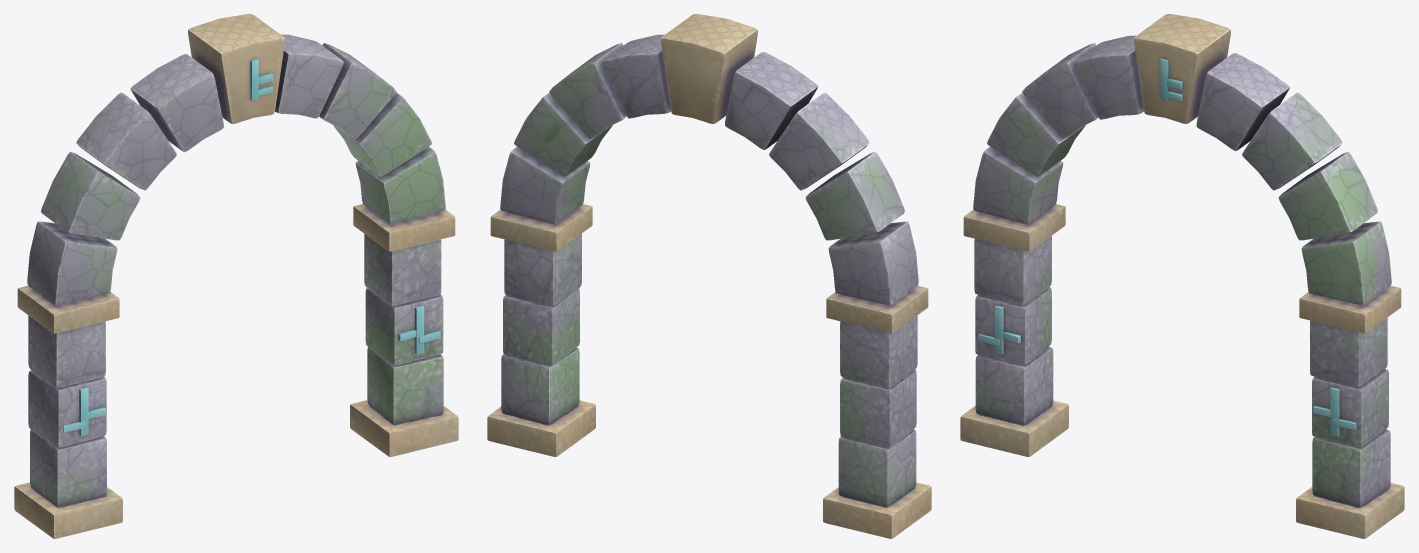
The model's file is ArcheAncienne.fbx.
The picture shows the model from 3 angles, left to right: view 1: azimuth 30°, elevation 25°; view 2: azimuth 150°, elevation 25°; view 3: azimuth 330°, elevation 25°; orthographic projection.
Parts seen in each view (by area): view 1: ArcheAncienne; view 2: ArcheAncienne; view 3: ArcheAncienne.
Boxes of the visible parts, x1,y1,x2,y2 form: ArcheAncienne: (14,14,458,538); ArcheAncienne: (487,14,931,538); ArcheAncienne: (960,14,1404,538).
Bounding box in the file's own units: 2560 × 2690 × 440.
Materials: 1 (1 with a texture image).
